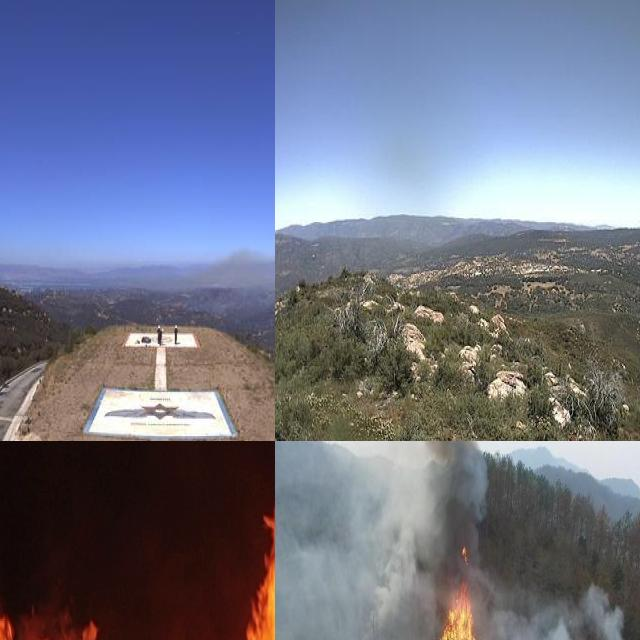fire: (0, 441, 275, 640), (410, 518, 506, 640)
smoke: (275, 441, 640, 640), (224, 218, 275, 316)
